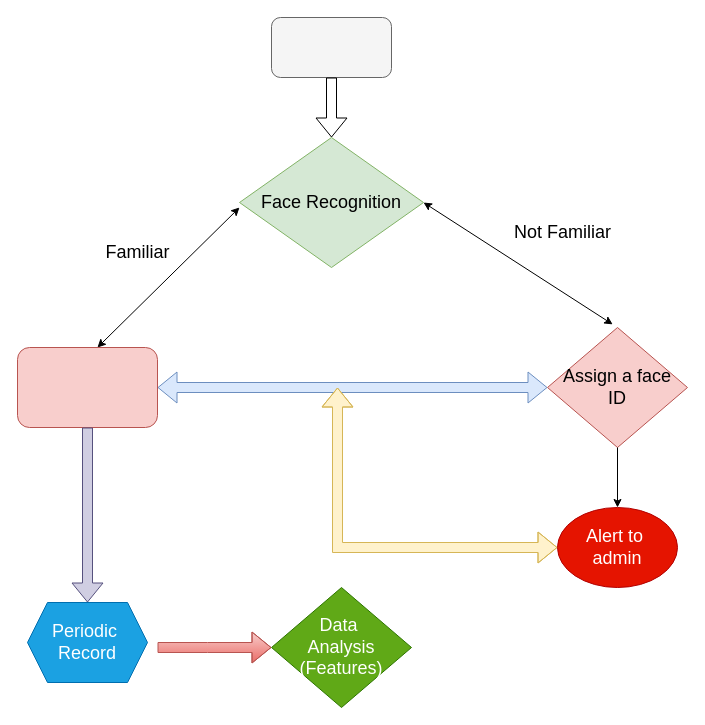
This 705x725 diagram has some shape labels left out. The shapes that lost their labels are listed below. From the top down, each one's centre as x and y in pixels, then its label:
the point at 331,47: Input
the point at 87,387: Maintain database (Timestamp)
